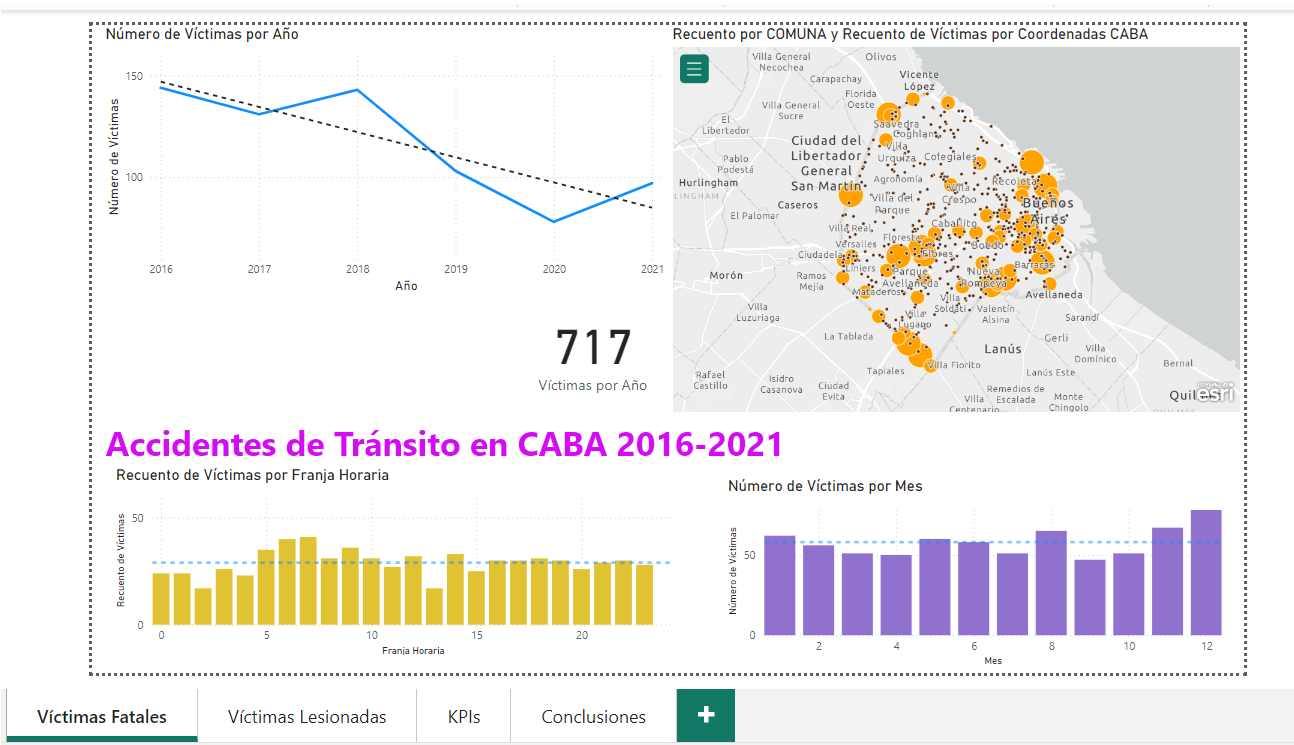

This screenshot's page, from the dashboard's own definition file:
{"tool":"powerbi","page":{"name":"Víctimas Fatales","canvas":[1280,720],"ordinal":0},"visuals":[{"type":"textbox","box":[10,434,836,70],"z":0},{"type":"lineChart","fields":{"Category":["df_homic_lista.Agno"],"Y":["CountNonNull(df_homic_lista.N_VICTIMAS)"]},"box":[10,0,630,302],"z":1000},{"type":"card","fields":{"Values":["Sum(df_homic_lista.N_VICTIMAS)"]},"box":[474,306,166,108],"z":2000},{"type":"esriVisual","fields":{"Location":["df_homic_lista.Coordenadas CABA"],"Size":["CountNonNull(df_homic_lista.COMUNA)"],"Color":["CountNonNull(df_homic_lista.N_VICTIMAS)"]},"box":[640,0,640,434],"z":3000},{"type":"clusteredColumnChart","fields":{"Category":["df_homic_lista.franja_hora_new"],"Y":["CountNonNull(df_homic_lista.N_VICTIMAS)"]},"box":[21.7,490,630,215],"z":4000},{"type":"clusteredColumnChart","fields":{"Y":["CountNonNull(df_homic_lista.N_VICTIMAS)"],"Category":["df_homic_lista.Mes"]},"box":[701.7,501.7,558.3,215],"z":5000}]}

Visuals, with their boxes on the page's 1280x720 design canvas (x1, y1, x2, y2). These are canvas units, not pixel positions in the 1294x745 screenshot, which may show the page scaled, cropped or inside an application window:
textbox: bbox=(10, 434, 846, 504)
lineChart - df_homic_lista.Agno x CountNonNull(df_homic_lista.N_VICTIMAS): bbox=(10, 0, 640, 302)
card - Sum(df_homic_lista.N_VICTIMAS): bbox=(474, 306, 640, 414)
esriVisual - df_homic_lista.Coordenadas CABA x CountNonNull(df_homic_lista.COMUNA): bbox=(640, 0, 1280, 434)
clusteredColumnChart - df_homic_lista.franja_hora_new x CountNonNull(df_homic_lista.N_VICTIMAS): bbox=(22, 490, 652, 705)
clusteredColumnChart - CountNonNull(df_homic_lista.N_VICTIMAS) x df_homic_lista.Mes: bbox=(702, 502, 1260, 717)
